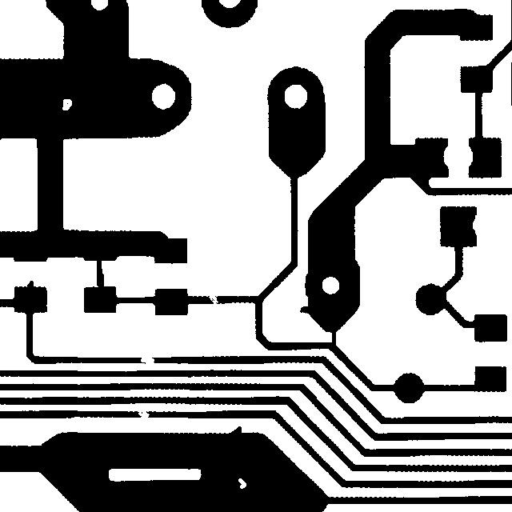open: (130, 400, 157, 426), (201, 286, 226, 314), (133, 349, 162, 373)
pin-hole: (54, 91, 79, 118), (230, 470, 254, 496)
short: (89, 251, 111, 299), (323, 321, 343, 354)
spur: (222, 418, 249, 443), (292, 298, 319, 321), (19, 273, 41, 298)
